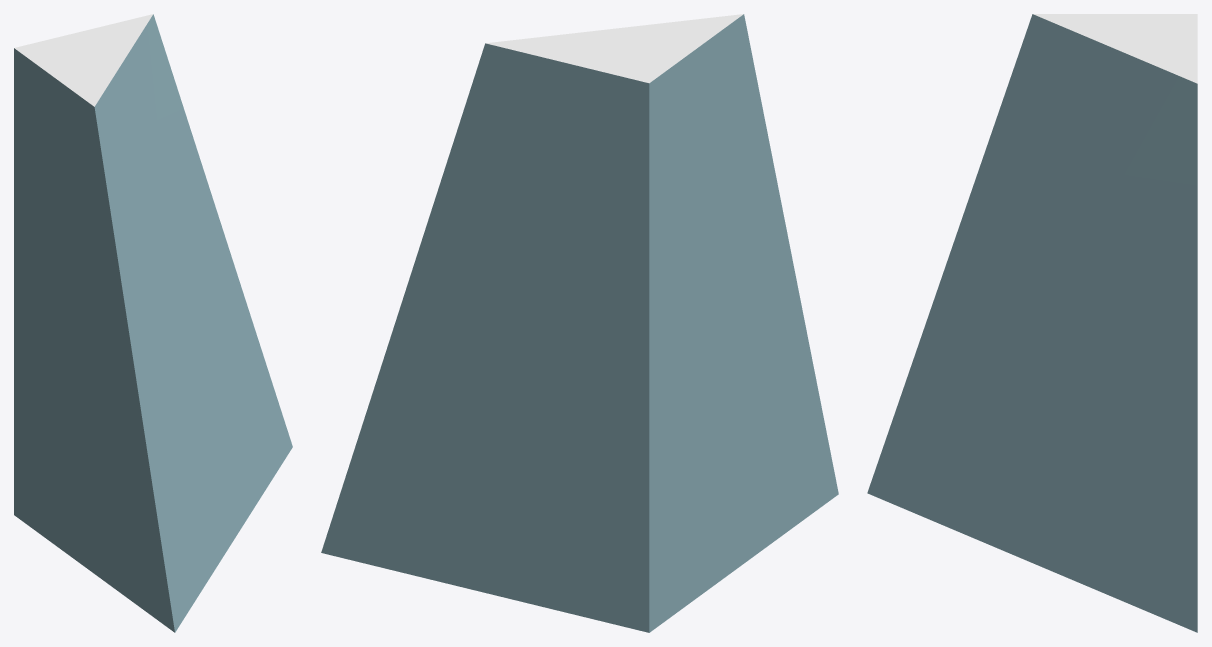
The model's file is Terrain_Modular_Tiles_Snow_Ice_Cliff_Side_Outer_Corner_01.fbx.
3 renders of one model, left to right at view 1: azimuth 30°, elevation 25°; view 2: azimuth 150°, elevation 25°; view 3: azimuth 270°, elevation 25°, orthographic. The views are drawn at different scales.
Parts seen in each view (by area): view 1: Terrain_Modular_Tiles_Snow_Ice_Cliff_Side_Outer_Corner_01; view 2: Terrain_Modular_Tiles_Snow_Ice_Cliff_Side_Outer_Corner_01; view 3: Terrain_Modular_Tiles_Snow_Ice_Cliff_Side_Outer_Corner_01.
Part boxes in pixels (box(x1,y1,x2,y2)): Terrain_Modular_Tiles_Snow_Ice_Cliff_Side_Outer_Corner_01: box(14, 14, 292, 632); Terrain_Modular_Tiles_Snow_Ice_Cliff_Side_Outer_Corner_01: box(321, 14, 838, 632); Terrain_Modular_Tiles_Snow_Ice_Cliff_Side_Outer_Corner_01: box(867, 14, 1197, 632).
Size of the model in its own units: 1500 by 2400 by 1500.
